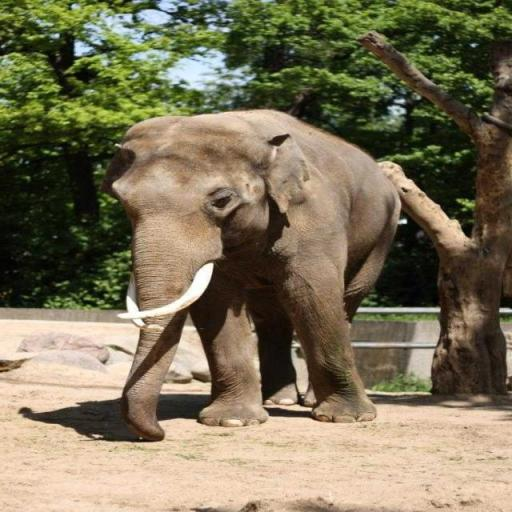Elephant: (100, 108, 402, 442)
